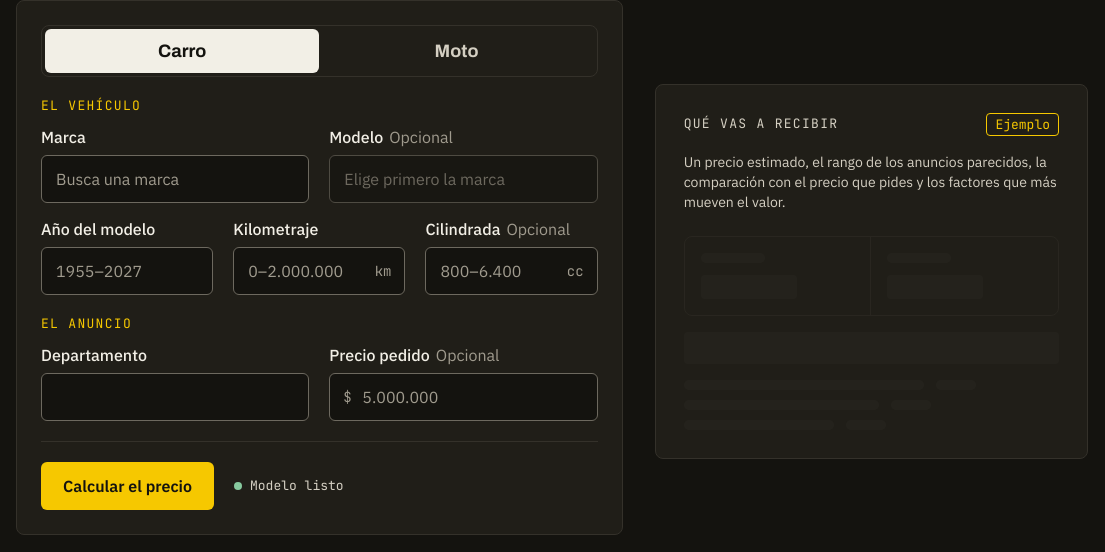
Test: the field ranges › follow the vehicle type
expect the text "Modelo listo" is shown: met, box [234, 477, 344, 496]
Click the button "Moto": point(456, 51) [319, 29, 594, 73]
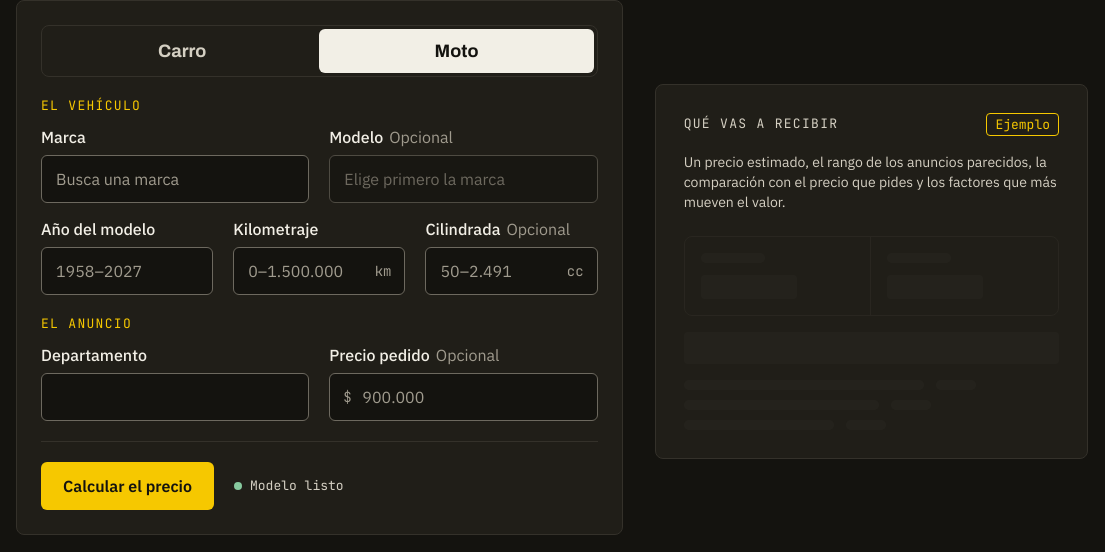
expect the field labelled "Año del modelo" has attribute placeholder="1958–2027": met, box [41, 247, 213, 295]
expect the field labelled "Kilometraje" has attribute placeholder="0–1.500.000": met, box [233, 247, 405, 295]
expect the field labelled "Cilindrada" has attribute placeholder="50–2.491": met, box [425, 247, 598, 295]
